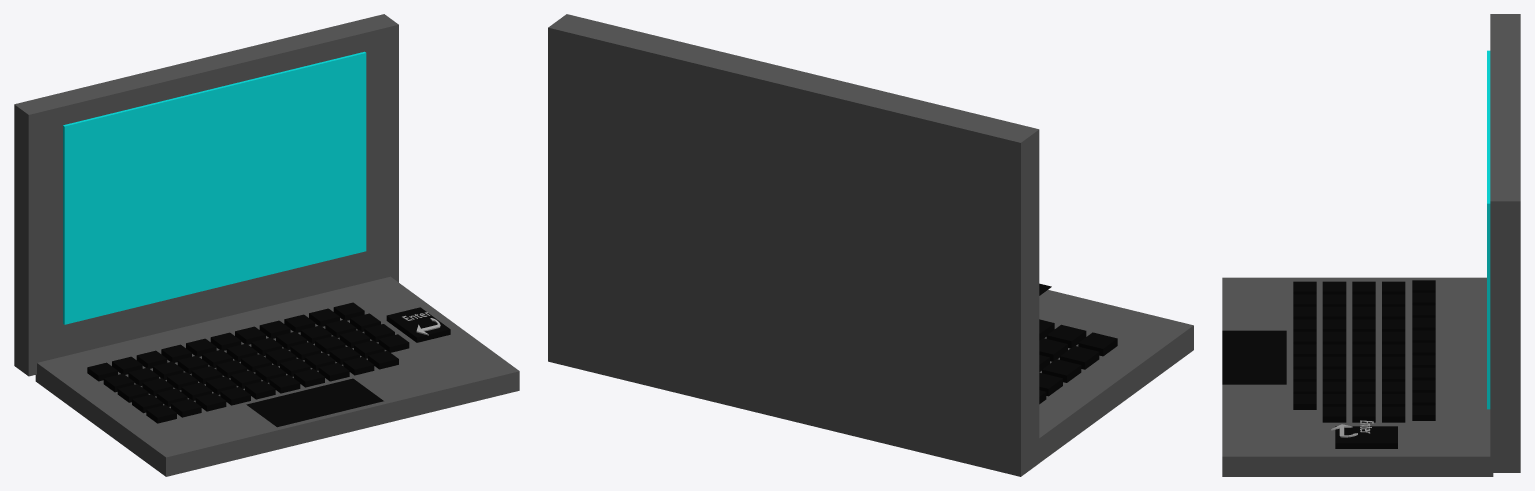
3 renders of one model, left to right at view 1: azimuth 30°, elevation 25°; view 2: azimuth 150°, elevation 25°; view 3: azimuth 270°, elevation 25°, orthographic. The views are drawn at different scales.
Visible parts, largest first — view 1: polySurface39; view 2: polySurface39; view 3: polySurface39.
Part boxes in pixels (x1,y1,x2,y2): polySurface39: (14, 14, 519, 476); polySurface39: (548, 14, 1193, 476); polySurface39: (1222, 14, 1520, 476).
Size of the model in its own units: 30.03 by 20.9 by 20.2.
